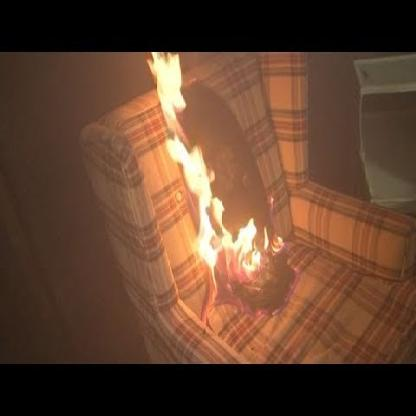fire: (143, 42, 269, 284)
